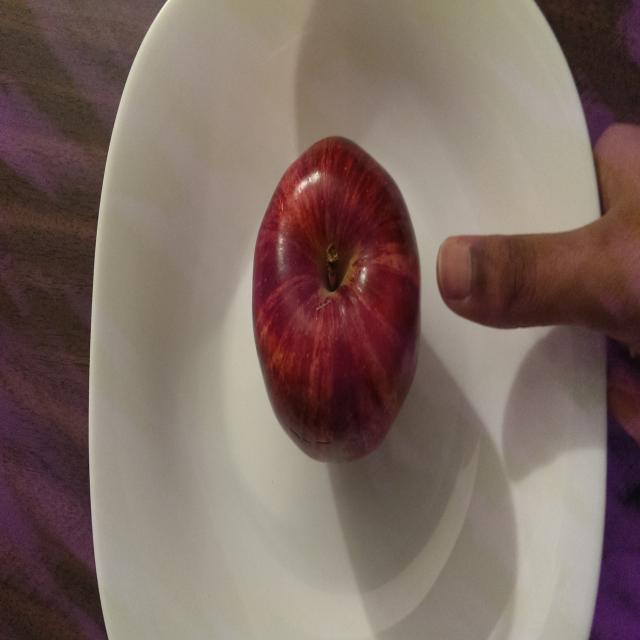apple: (237, 116, 430, 478)
